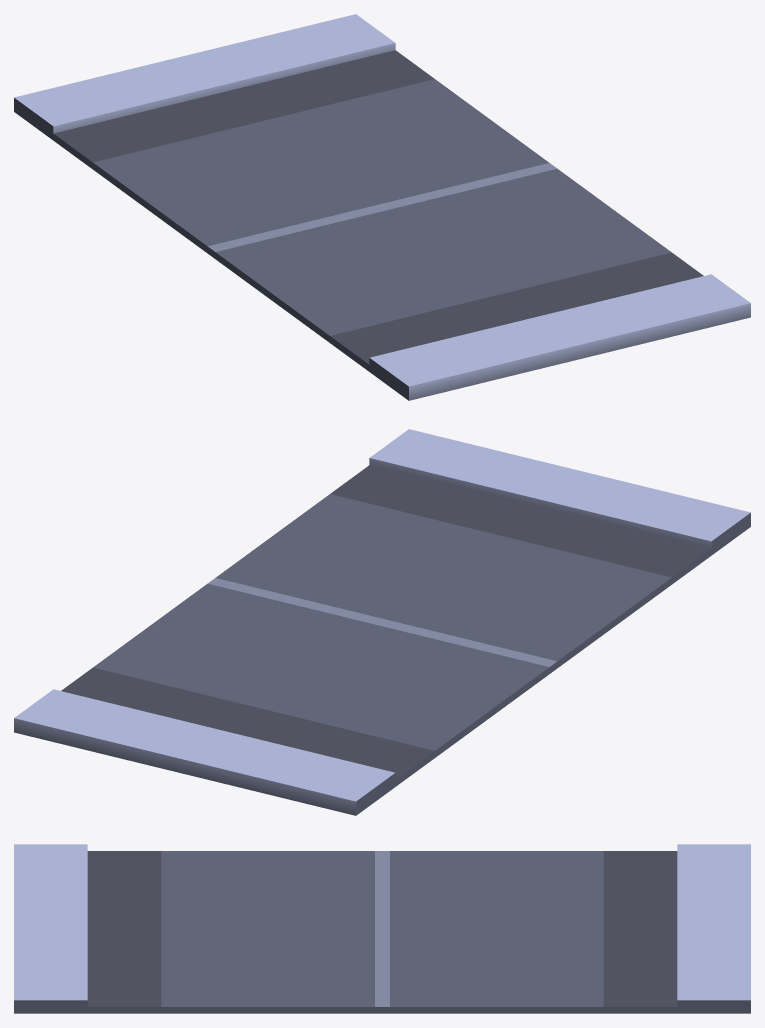
The model's file is road-straight-half.glb.
3 views of the same model, one above another, from view 1: azimuth 30°, elevation 25°; view 2: azimuth 150°, elevation 25°; view 3: azimuth 270°, elevation 25° (orthographic). The views are drawn at different scales.
Visible parts, largest first — view 1: road-straight-half; view 2: road-straight-half; view 3: road-straight-half.
Boxes of the visible parts, bbox=[...] form: road-straight-half: bbox=[14, 14, 750, 400]; road-straight-half: bbox=[14, 429, 750, 815]; road-straight-half: bbox=[14, 844, 750, 1013].
Size of the model in its own units: 0.5 by 0.02 by 1.
Materials: 1 (1 with a texture image).
